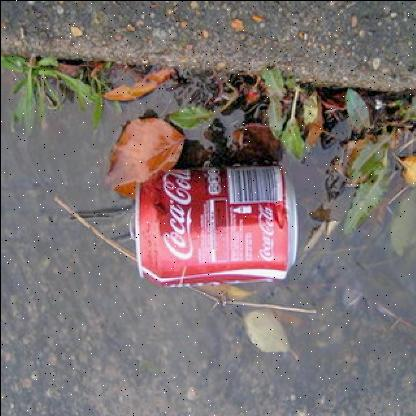Can: (132, 161, 296, 288)
